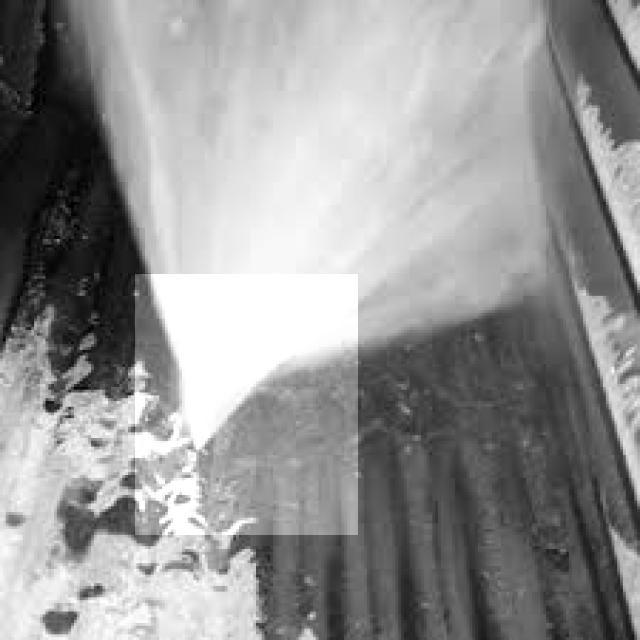corrosion: (140, 280, 360, 522)
